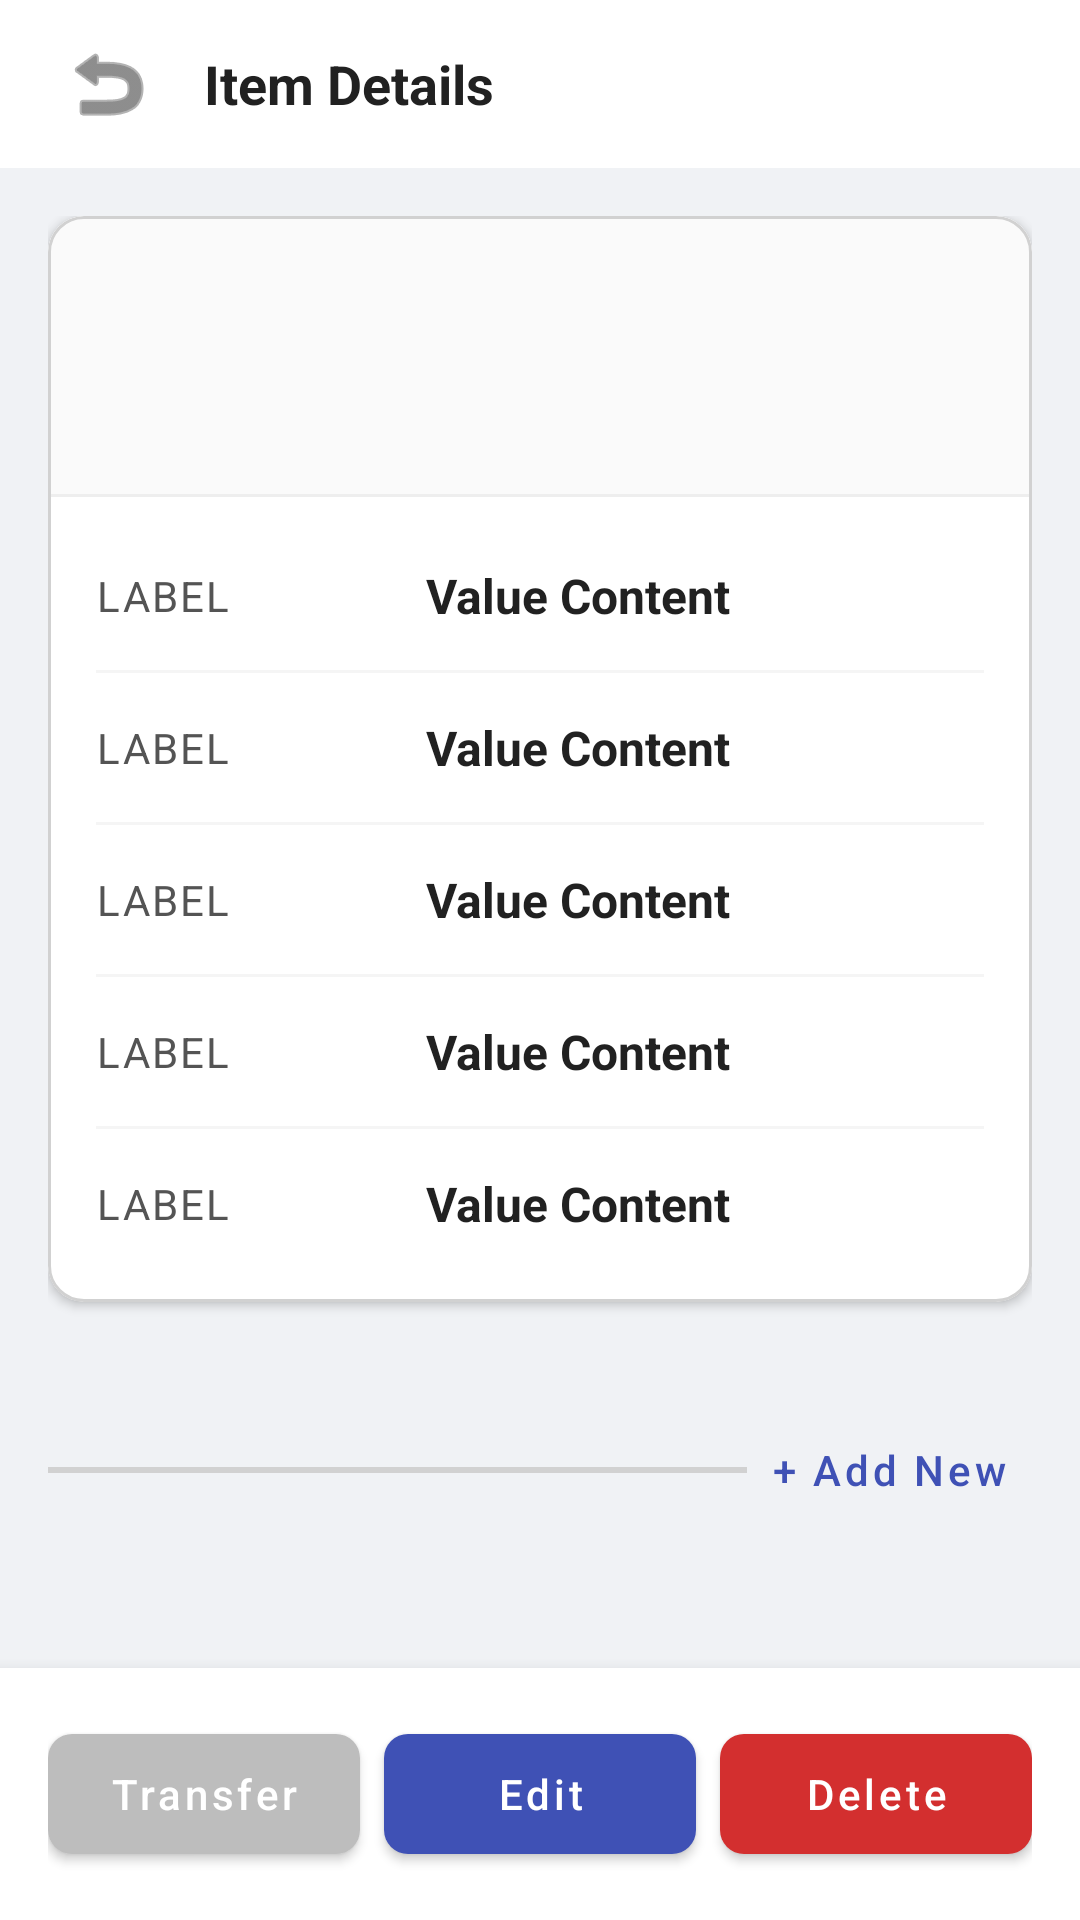

Icon click points for this 1080*1920 phone screenshot, format (x,y):
Go back: (109,84)
